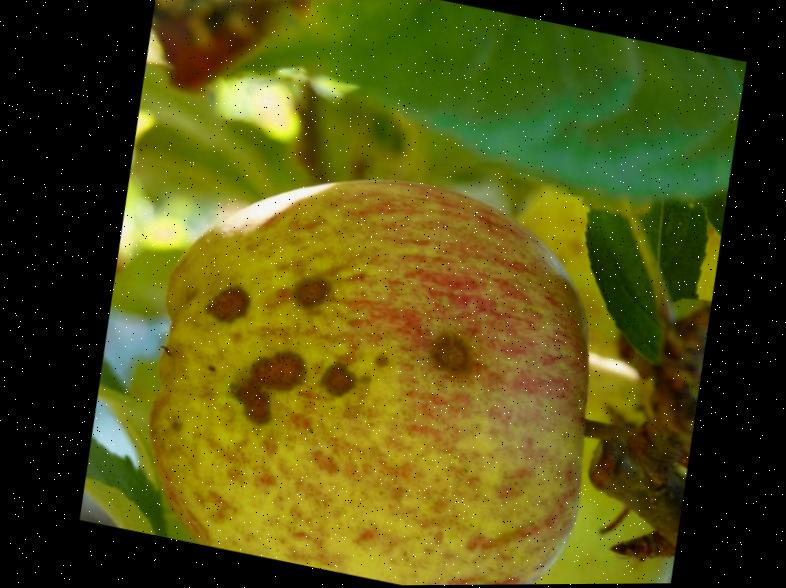SCAB: (86, 127, 669, 587)
